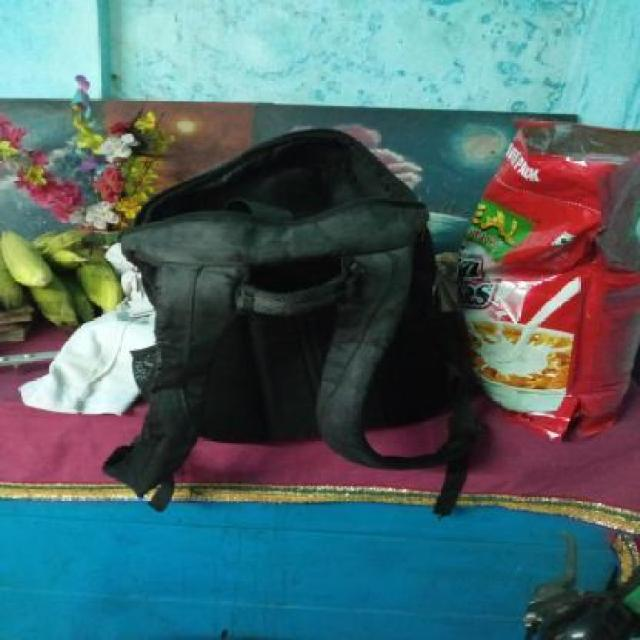backpack: (100, 124, 492, 522)
